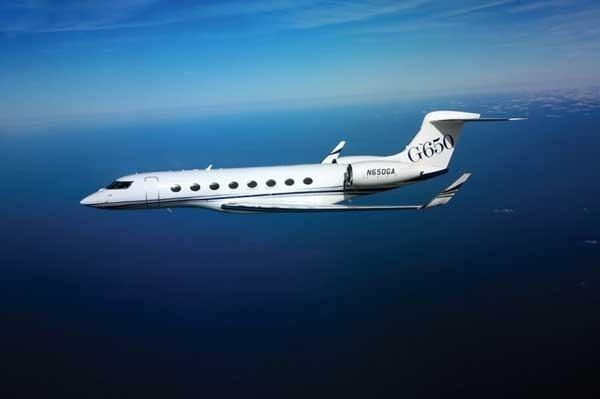airplane: (80, 108, 525, 221)
